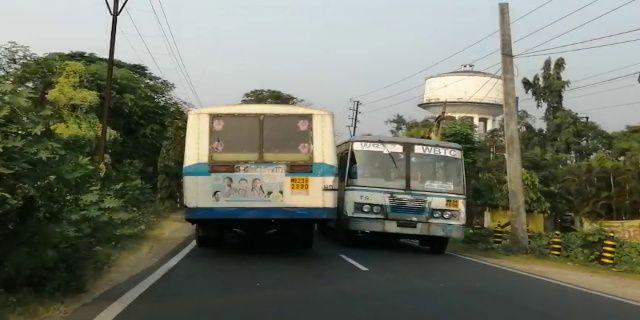Bus: (177, 101, 342, 252), (335, 135, 469, 256)
